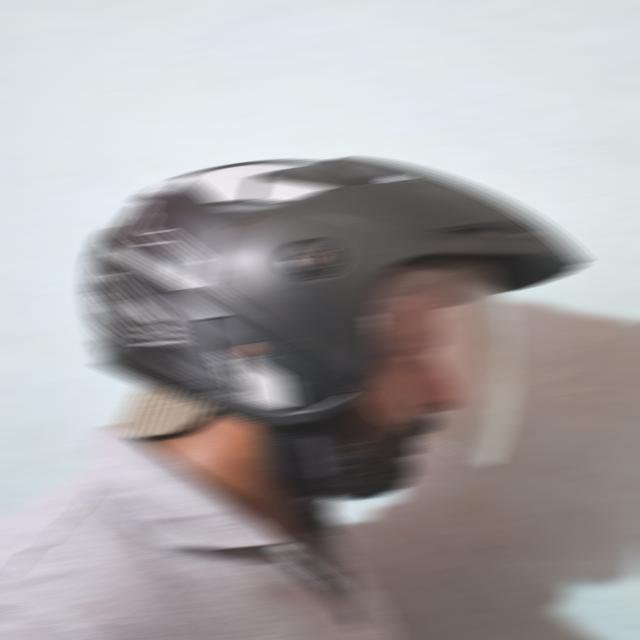With Helmet: (79, 156, 586, 470)
